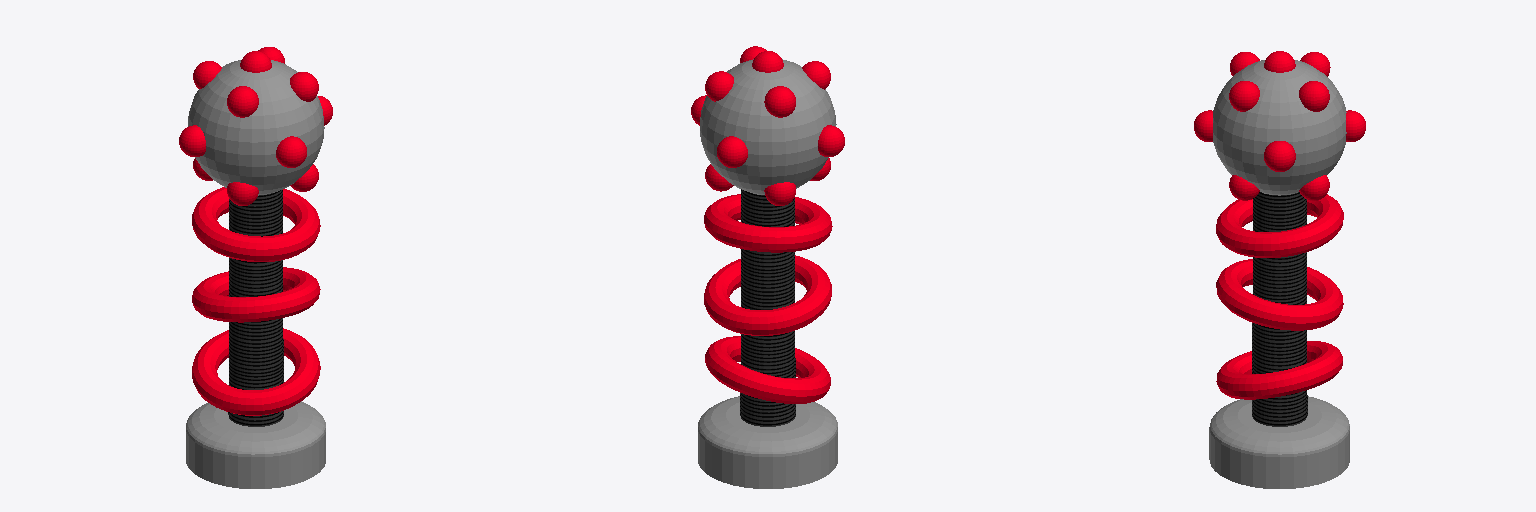
3 renders of one model, left to right at view 1: azimuth 30°, elevation 25°; view 2: azimuth 150°, elevation 25°; view 3: azimuth 270°, elevation 25°, orthographic.
Visible parts, largest first — view 1: Cylinder; view 2: Cylinder; view 3: Cylinder.
Boxes of the visible parts, box(x1,y1,x2,y2) form: Cylinder: box(179, 47, 332, 488); Cylinder: box(691, 46, 844, 488); Cylinder: box(1194, 51, 1365, 488).
Size of the model in its own units: 3.77 by 9.78 by 3.76.
1 materials, 1 textured.